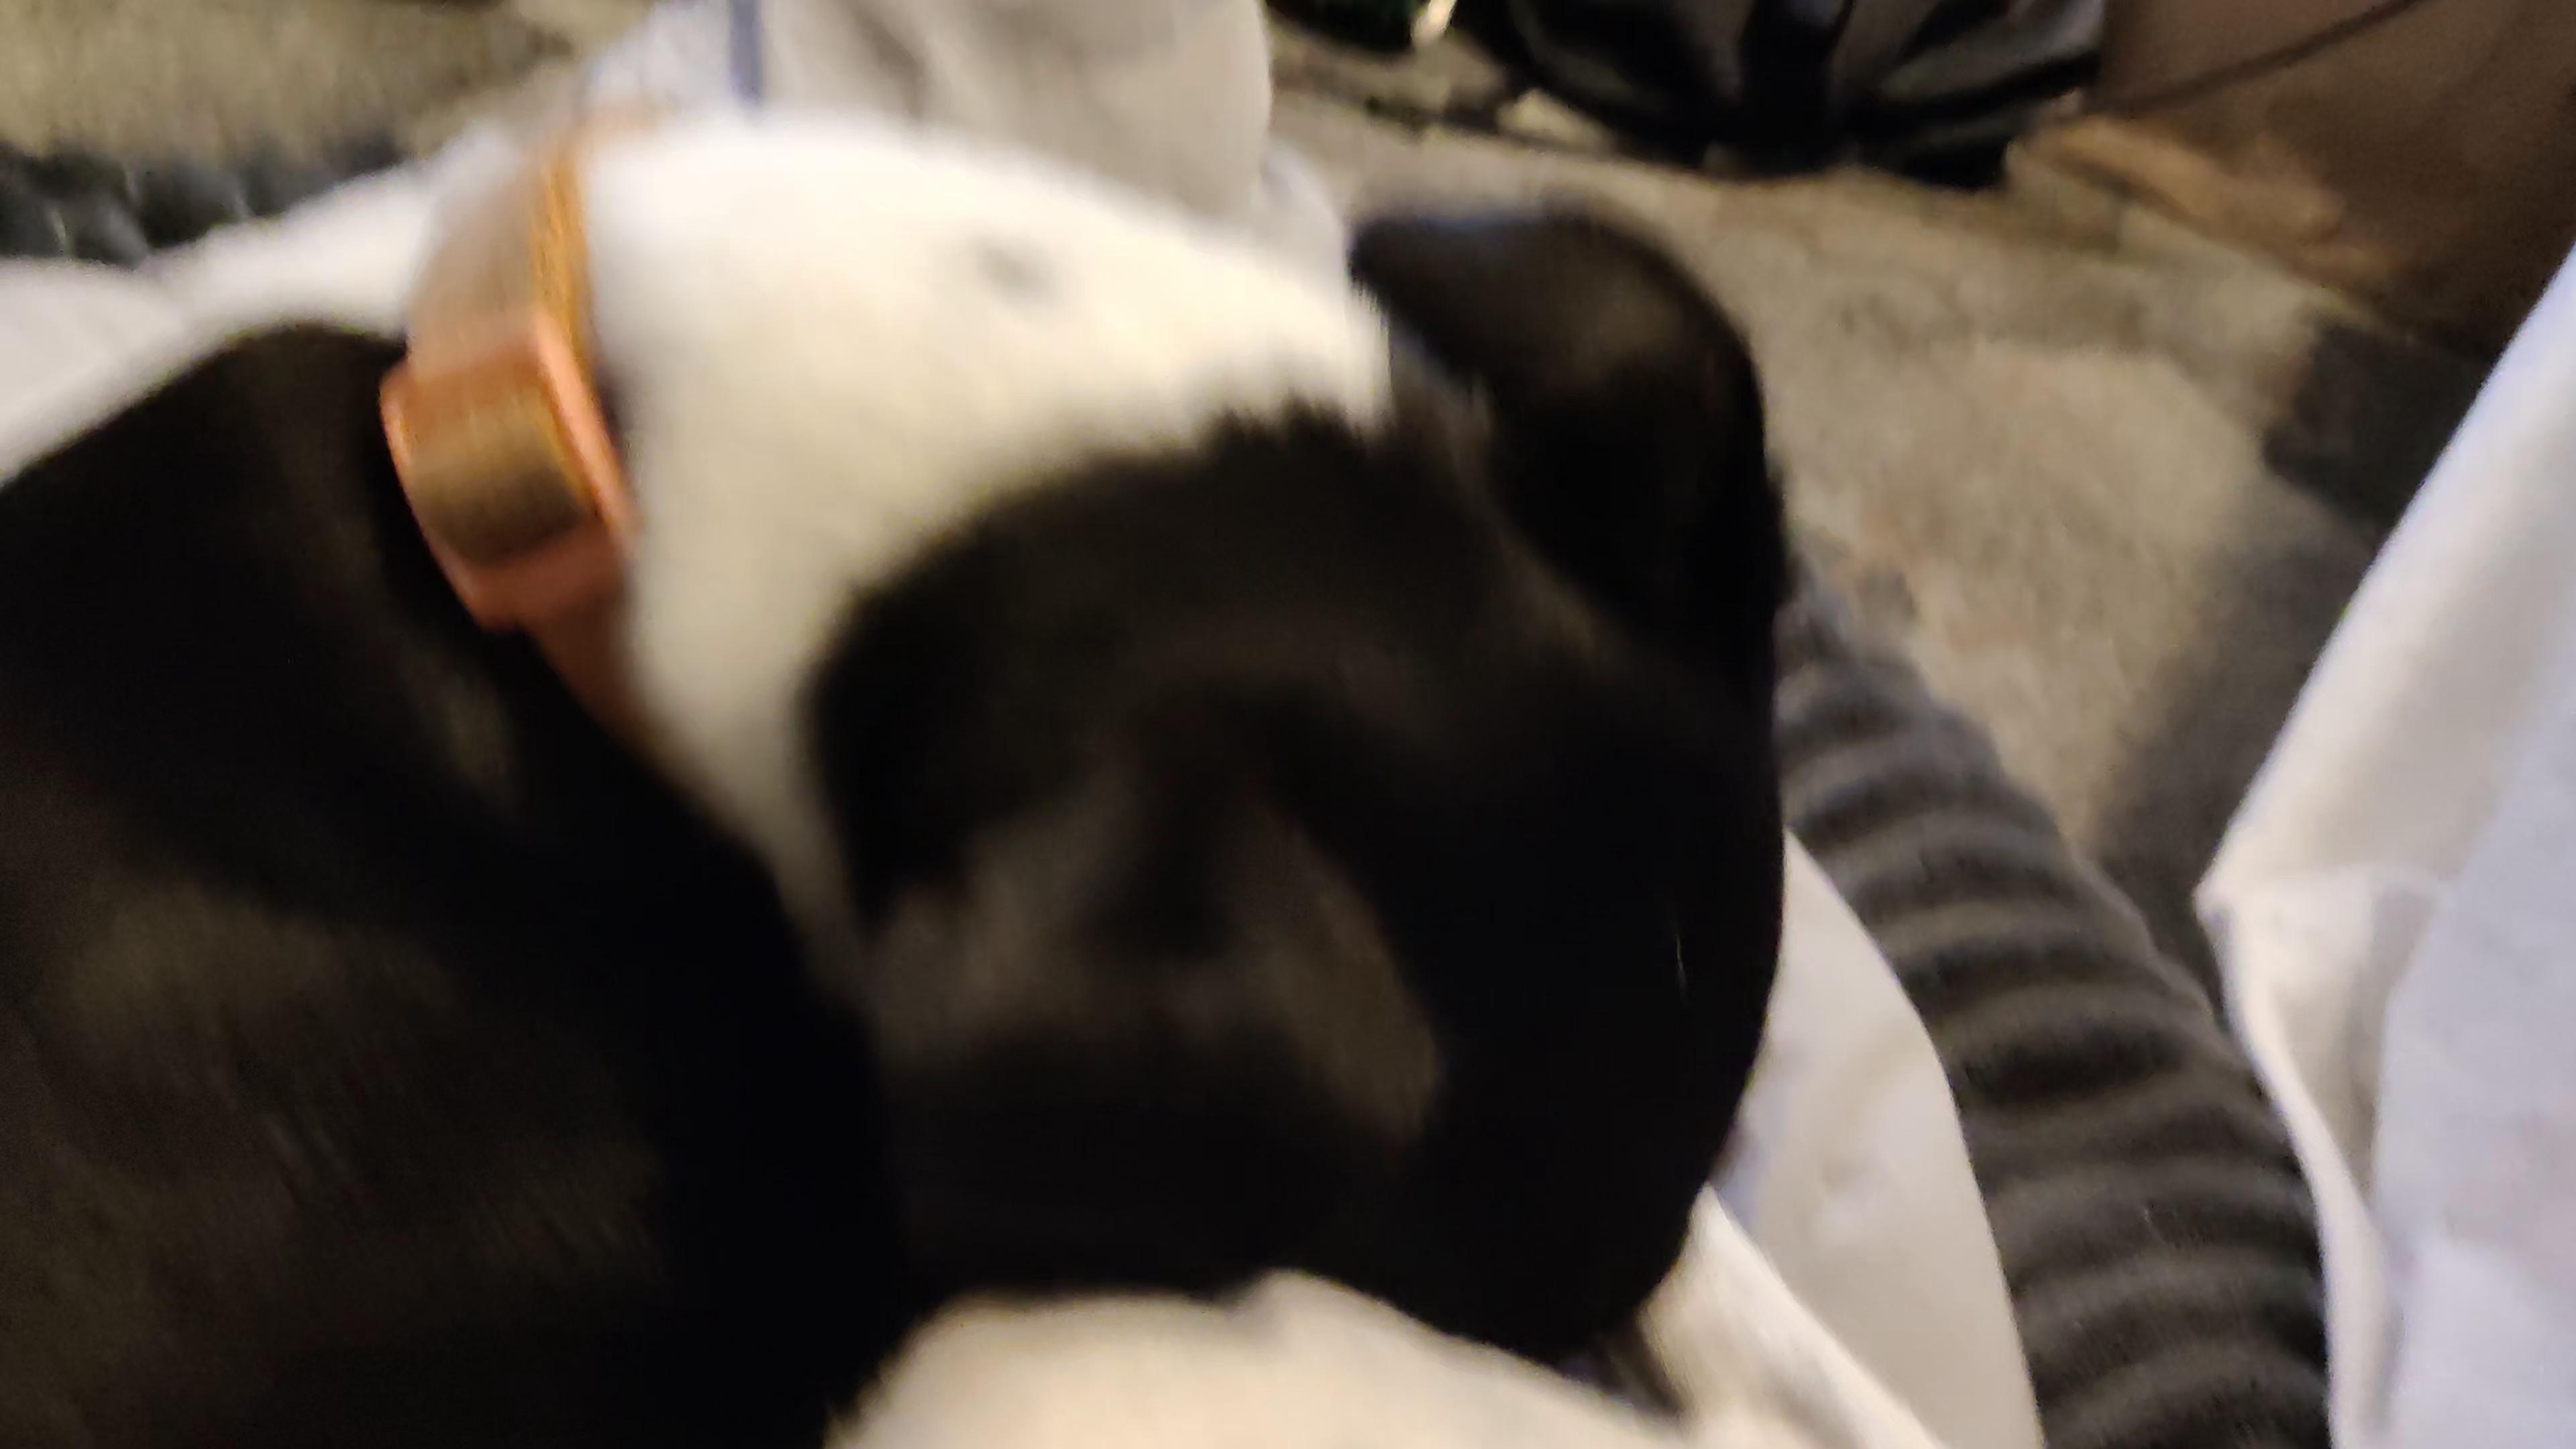Dog: (0, 81, 1951, 1449)
